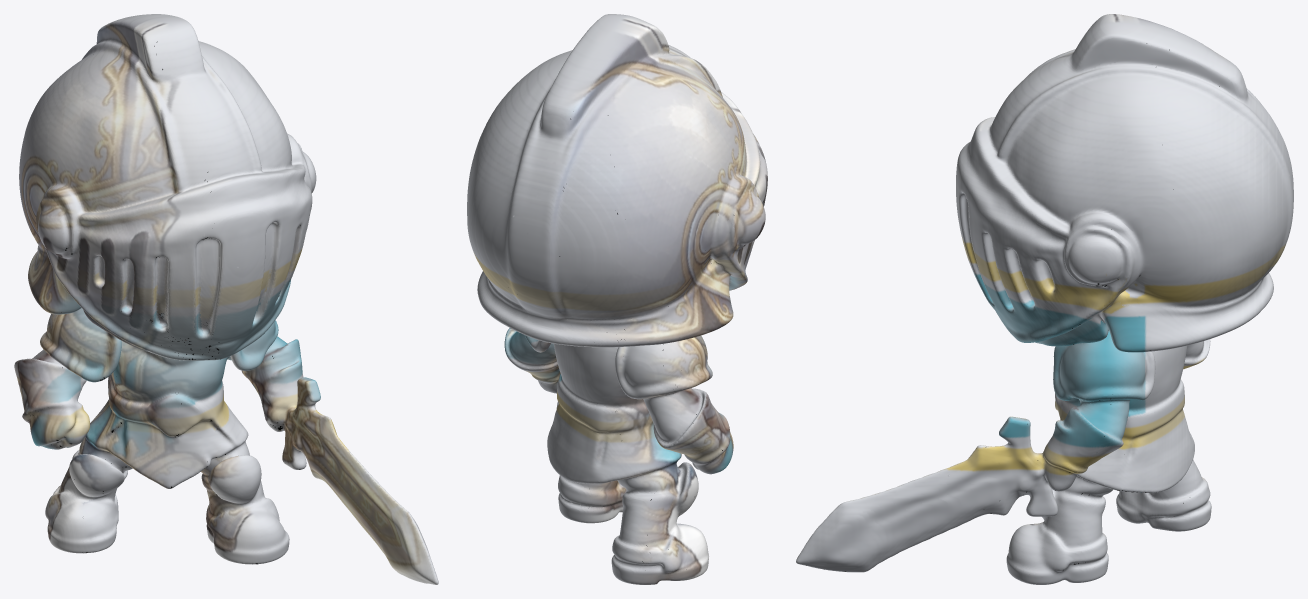
Rendered from ProjectKnight_Paladin_Method3_AIPBR.glb.
3 views of the same model, side by side, from view 1: azimuth 30°, elevation 25°; view 2: azimuth 150°, elevation 25°; view 3: azimuth 270°, elevation 25° (orthographic). The views are drawn at different scales.
Parts seen in each view (by area): view 1: Paladin; view 2: Paladin; view 3: Paladin.
Boxes of the visible parts, <box> form: Paladin: <box>14,14,438,584</box>; Paladin: <box>467,14,767,584</box>; Paladin: <box>796,14,1293,584</box>.
Bounding box in the file's own units: 1.07 × 2 × 1.72.
1 material, 1 textured.
